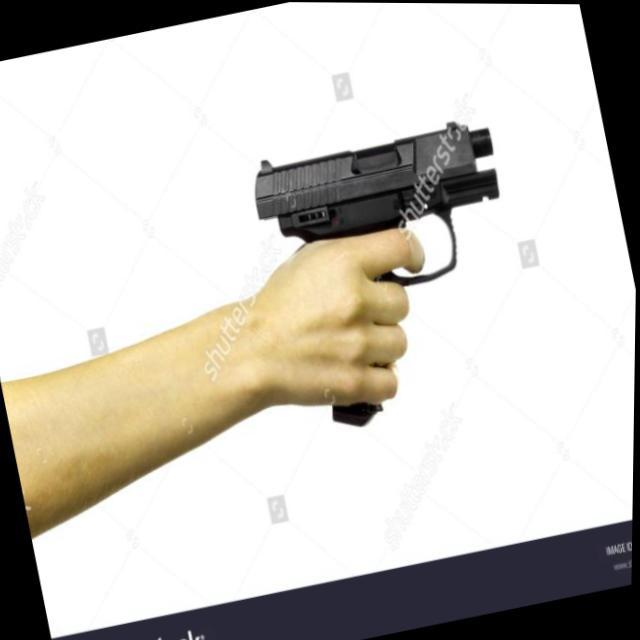weapon: (244, 110, 546, 440)
